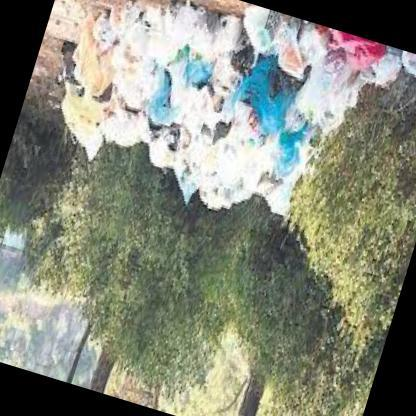Garbage: (114, 0, 322, 234), (216, 13, 379, 235), (42, 0, 192, 180), (306, 25, 415, 95)
